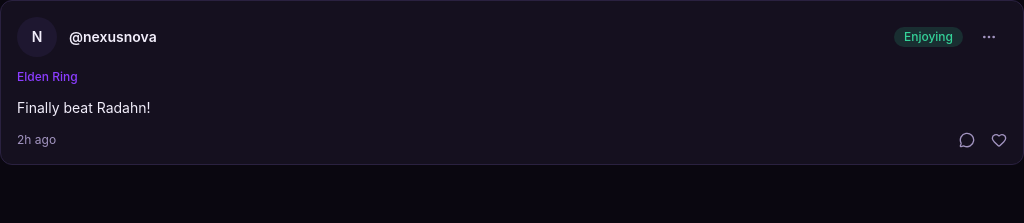
Test: PostCard — delete confirm › switches to confirming-delete on Delete click
Click the button named "post options" at [989, 37], box [971,19,1007,55]
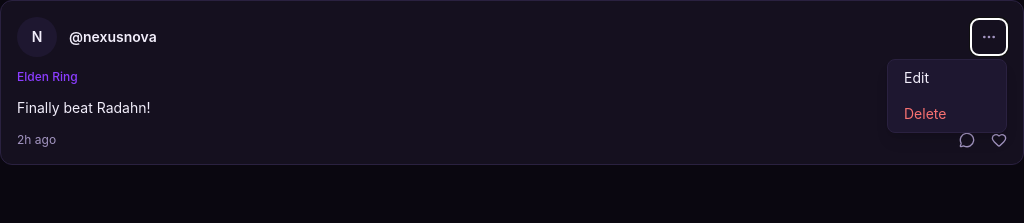
Click the button "Delete" at [947, 114], box [888,96,1006,132]
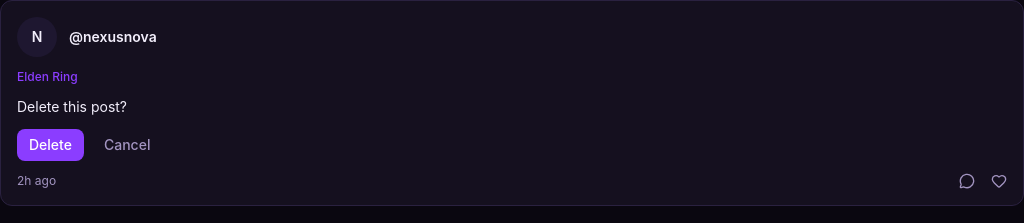
Now the text "Delete this post?" is shown, box [17,98,127,115]
